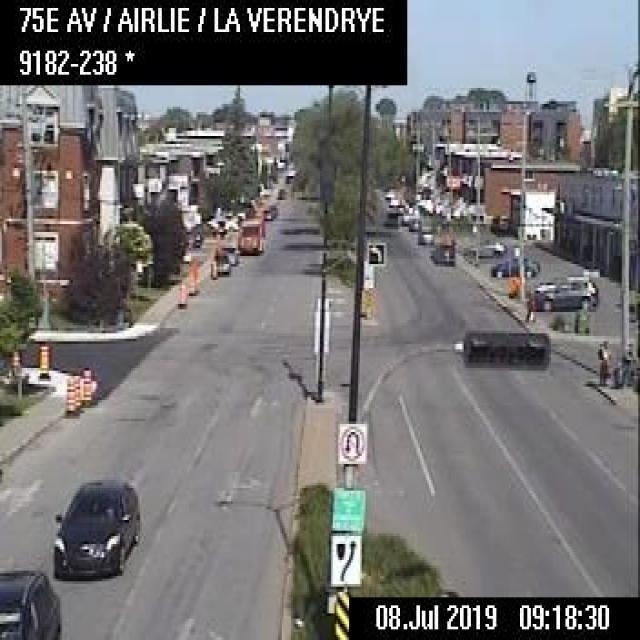construction: (80, 364, 92, 404), (70, 371, 80, 409), (36, 344, 48, 373), (64, 376, 73, 414), (506, 275, 520, 296), (10, 348, 19, 373), (174, 282, 182, 306), (188, 267, 195, 293), (189, 262, 199, 280), (209, 259, 216, 277)
pedestrian: (595, 339, 609, 384)
vehicle: (50, 474, 140, 580), (0, 568, 60, 637), (529, 273, 600, 311), (488, 252, 538, 278), (237, 209, 264, 253), (463, 236, 505, 255), (429, 236, 453, 262), (219, 241, 238, 264), (212, 250, 229, 273), (417, 224, 432, 243), (261, 206, 272, 219), (408, 216, 419, 228), (274, 186, 284, 198)
